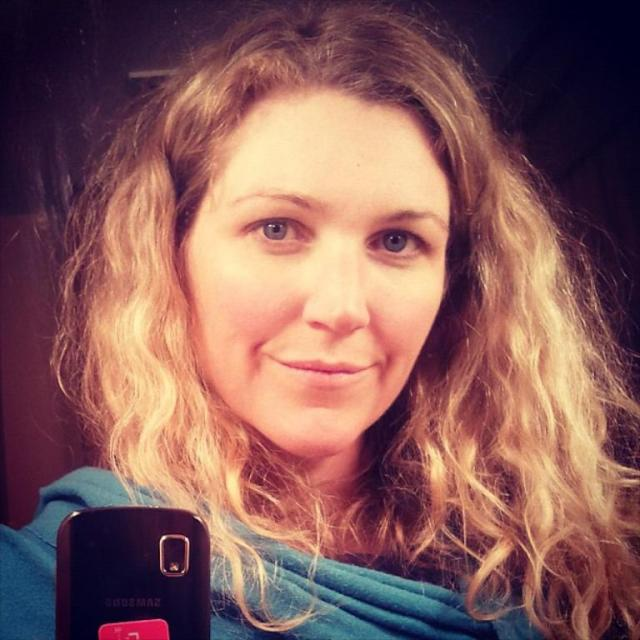Mobile-phone: (52, 487, 210, 637)
